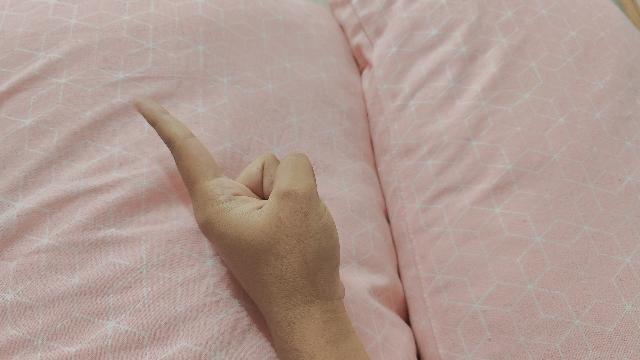soochi: (133, 99, 374, 360)
